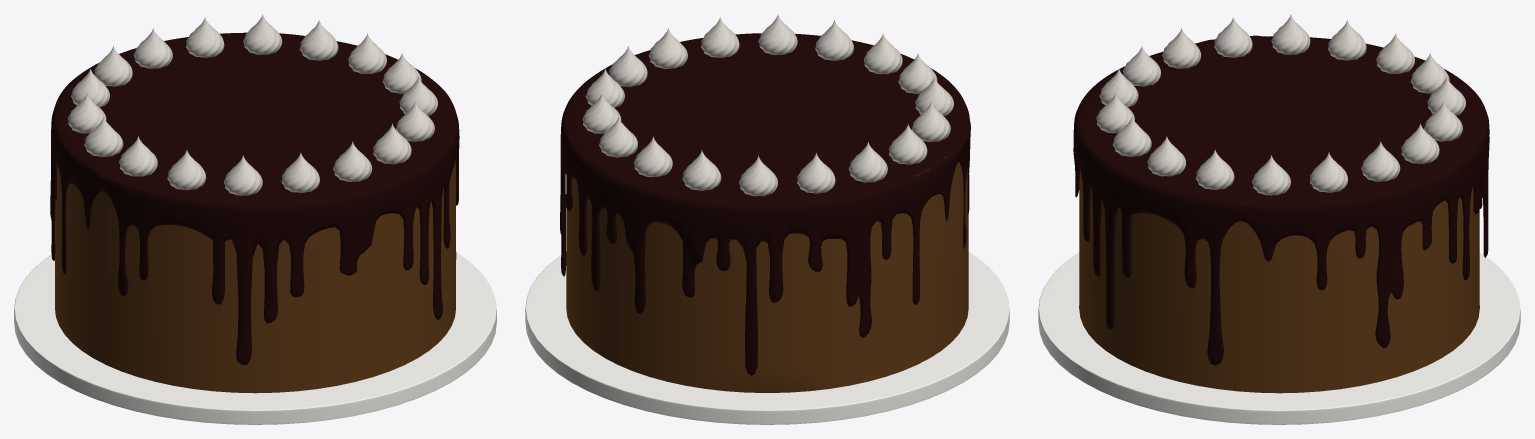
Rendered from 1773576431_cus.glb.
3 renders of one model, left to right at view 1: azimuth 30°, elevation 25°; view 2: azimuth 150°, elevation 25°; view 3: azimuth 270°, elevation 25°, orthographic.
Visible parts, largest first — view 1: pCylinder3, pCylinder5, pCylinder29, pSphere554, pSphere555, pSphere546, pSphere548, pSphere553, pSphere547, pSphere545, pSphere557, pSphere558 (+9 smaller); view 2: pCylinder3, pCylinder5, pCylinder29, pSphere551, pSphere558, pSphere556, pSphere549, pSphere548, pSphere559, pSphere560, pSphere546, pSphere547 (+9 smaller); view 3: pCylinder3, pCylinder5, pCylinder29, pSphere545, pSphere552, pSphere554, pSphere561, pSphere551, pSphere559, pSphere560, pSphere546, pSphere550 (+9 smaller).
Part boxes in pixels (box(x1,y1,x2,y2)): pCylinder3: box(50, 32, 459, 364); pCylinder5: box(55, 146, 455, 393); pCylinder29: box(14, 252, 496, 424); pSphere554: box(167, 149, 206, 190); pSphere555: box(223, 155, 262, 195); pSphere546: box(243, 14, 282, 54); pSphere548: box(133, 28, 172, 68); pSphere553: box(119, 136, 157, 176); pSphere547: box(186, 17, 224, 57); pSphere545: box(299, 20, 338, 60); pSphere557: box(333, 141, 372, 181); pSphere558: box(373, 123, 411, 164); pCylinder3: box(560, 33, 970, 375); pCylinder5: box(566, 157, 968, 392); pCylinder29: box(525, 252, 1009, 424); pSphere551: box(848, 142, 887, 182); pSphere558: box(758, 14, 797, 54); pSphere556: box(863, 33, 902, 74); pSphere549: box(739, 155, 777, 196); pSphere548: box(682, 150, 721, 190); pSphere559: box(701, 17, 739, 57); pSphere560: box(648, 28, 687, 68); pSphere546: box(599, 117, 637, 157); pSphere547: box(634, 136, 672, 176); pCylinder3: box(1073, 35, 1489, 365); pCylinder5: box(1079, 36, 1479, 393); pCylinder29: box(1038, 253, 1520, 424); pSphere545: box(1361, 141, 1400, 181); pSphere552: box(1271, 14, 1310, 54); pSphere554: box(1162, 28, 1201, 68); pSphere561: box(1252, 155, 1290, 195); pSphere551: box(1328, 20, 1366, 60); pSphere559: box(1147, 136, 1186, 176); pSphere560: box(1196, 149, 1234, 189); pSphere546: box(1401, 123, 1439, 163); pSphere550: box(1376, 33, 1414, 73).
Size of the model in its own units: 0.024 by 0.0131 by 0.024.
Materials: 4 (3 with a texture image).
